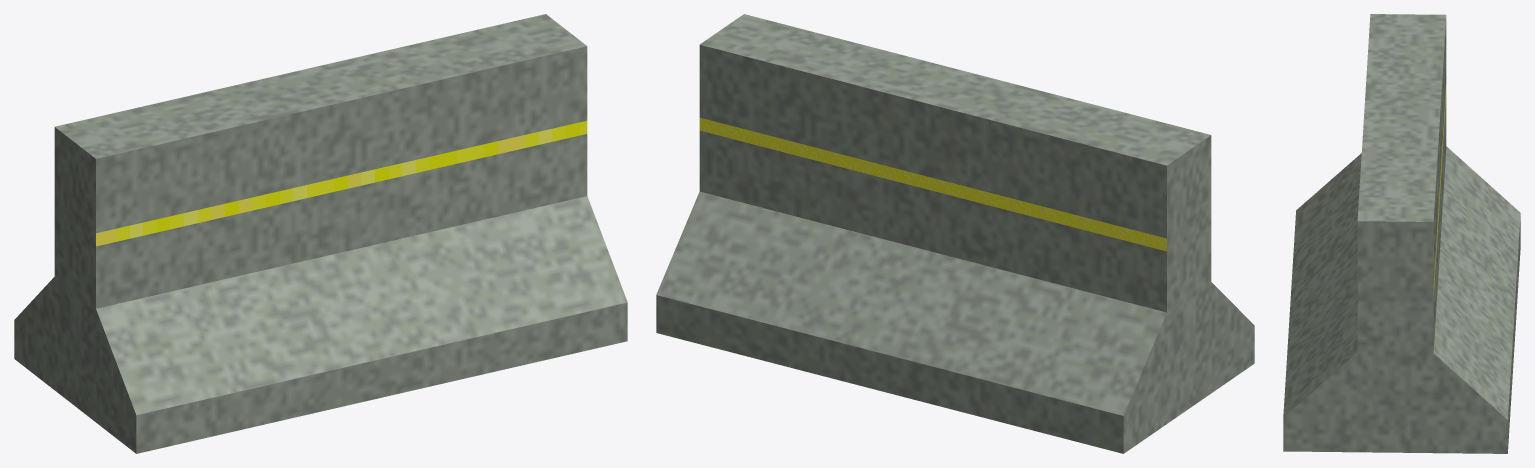
The model's file is BLOCKYGON_ROAD BLOCK .fbx.
3 renders of one model, left to right at view 1: azimuth 30°, elevation 25°; view 2: azimuth 150°, elevation 25°; view 3: azimuth 270°, elevation 25°, orthographic. The views are drawn at different scales.
Visible parts, largest first — view 1: BLOCKYGON_ROAD_BLOCK_; view 2: BLOCKYGON_ROAD_BLOCK_; view 3: BLOCKYGON_ROAD_BLOCK_.
Boxes of the visible parts, x1,y1,x2,y2 form: BLOCKYGON_ROAD_BLOCK_: [14, 14, 627, 453]; BLOCKYGON_ROAD_BLOCK_: [656, 14, 1254, 453]; BLOCKYGON_ROAD_BLOCK_: [1283, 14, 1520, 453].
Size of the model in its own units: 486 by 250 by 233.
2 materials, 2 textured.
